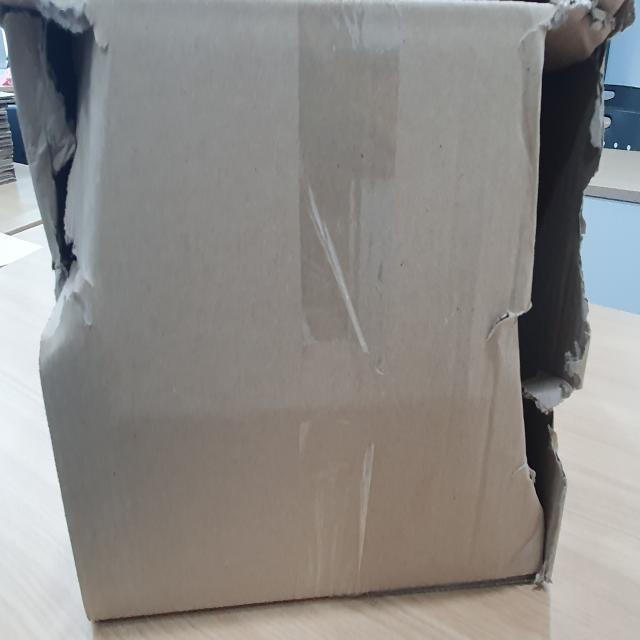hole: (504, 2, 611, 578), (2, 4, 105, 324)
